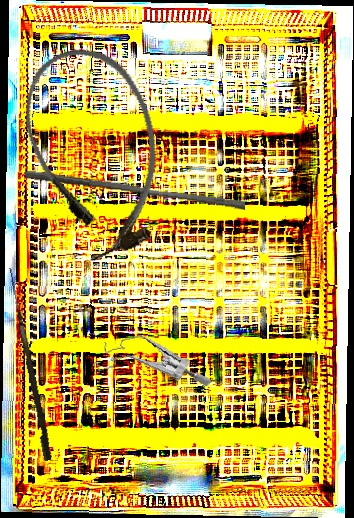Cannula: (9, 33, 183, 270)
Hook Surgical: (0, 267, 56, 462)
Pusher: (23, 169, 247, 211)
Speculum: (87, 320, 212, 410)
